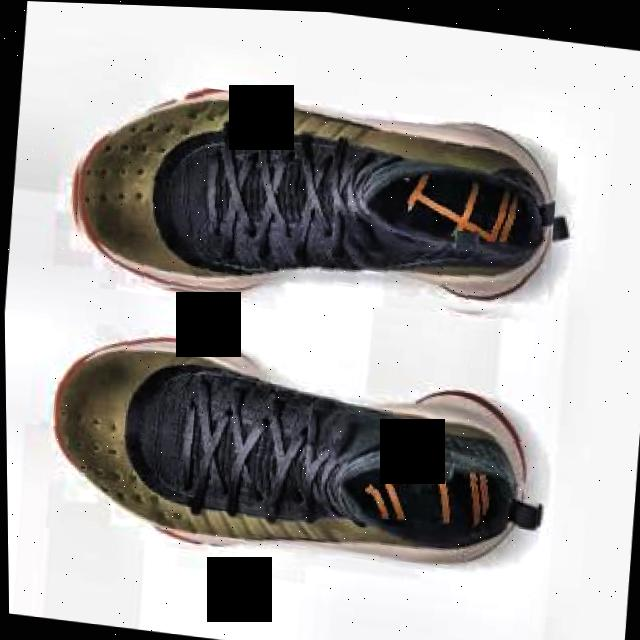shoe: (41, 312, 553, 585), (63, 71, 562, 334)
